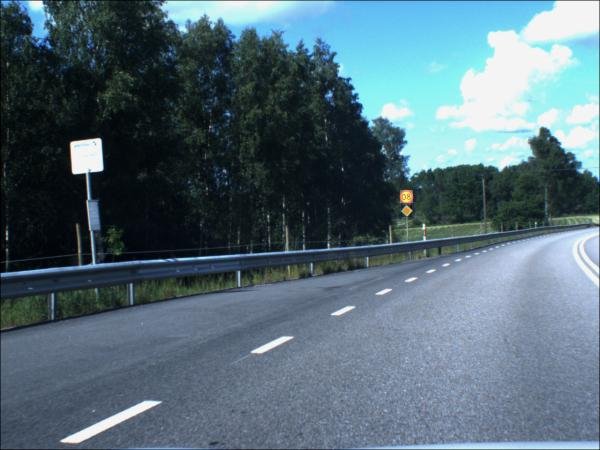80_SIGN: (400, 191, 414, 205)
PRIORITY_ROAD: (401, 206, 413, 219)
